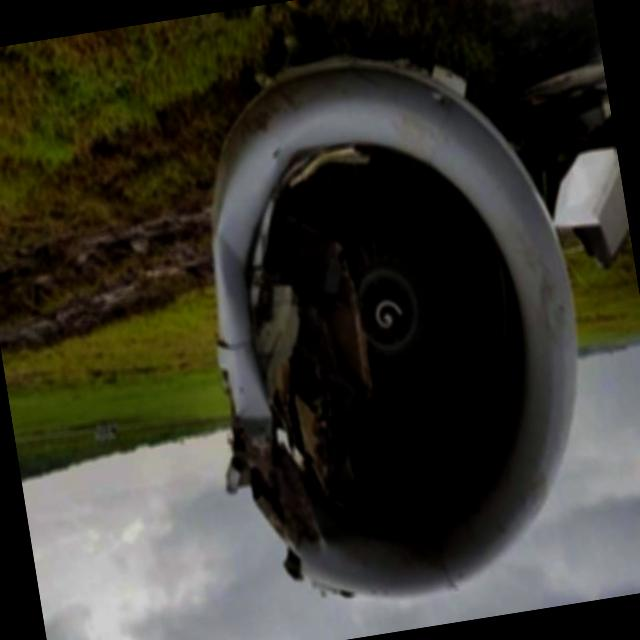dent: (198, 145, 257, 322), (231, 391, 278, 448)
